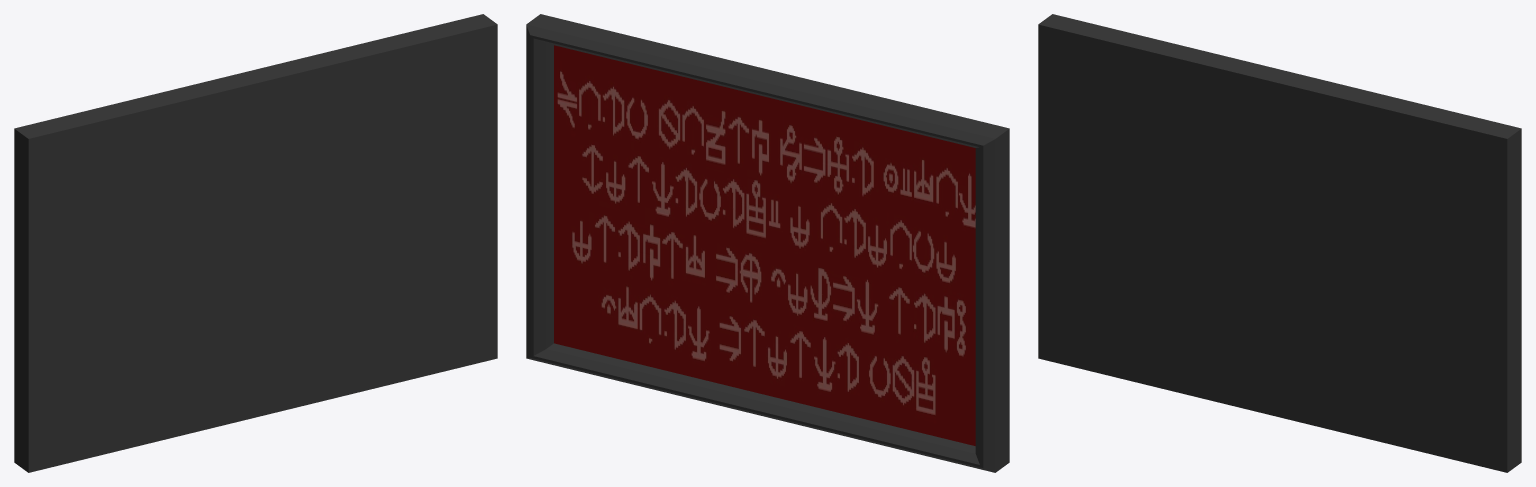
The model's file is interacctive panel.fbx.
3 views of the same model, side by side, from view 1: azimuth 30°, elevation 25°; view 2: azimuth 150°, elevation 25°; view 3: azimuth 330°, elevation 25° (orthographic).
Parts seen in each view (by area): view 1: Cube.542; view 2: Cube.542; view 3: Cube.542.
Part boxes in pixels (box(x1,y1,x2,y2)): Cube.542: box(14, 14, 497, 472); Cube.542: box(526, 14, 1009, 472); Cube.542: box(1038, 14, 1521, 472).
Bounding box in the file's own units: 88.98 × 60.51 × 6.05.
